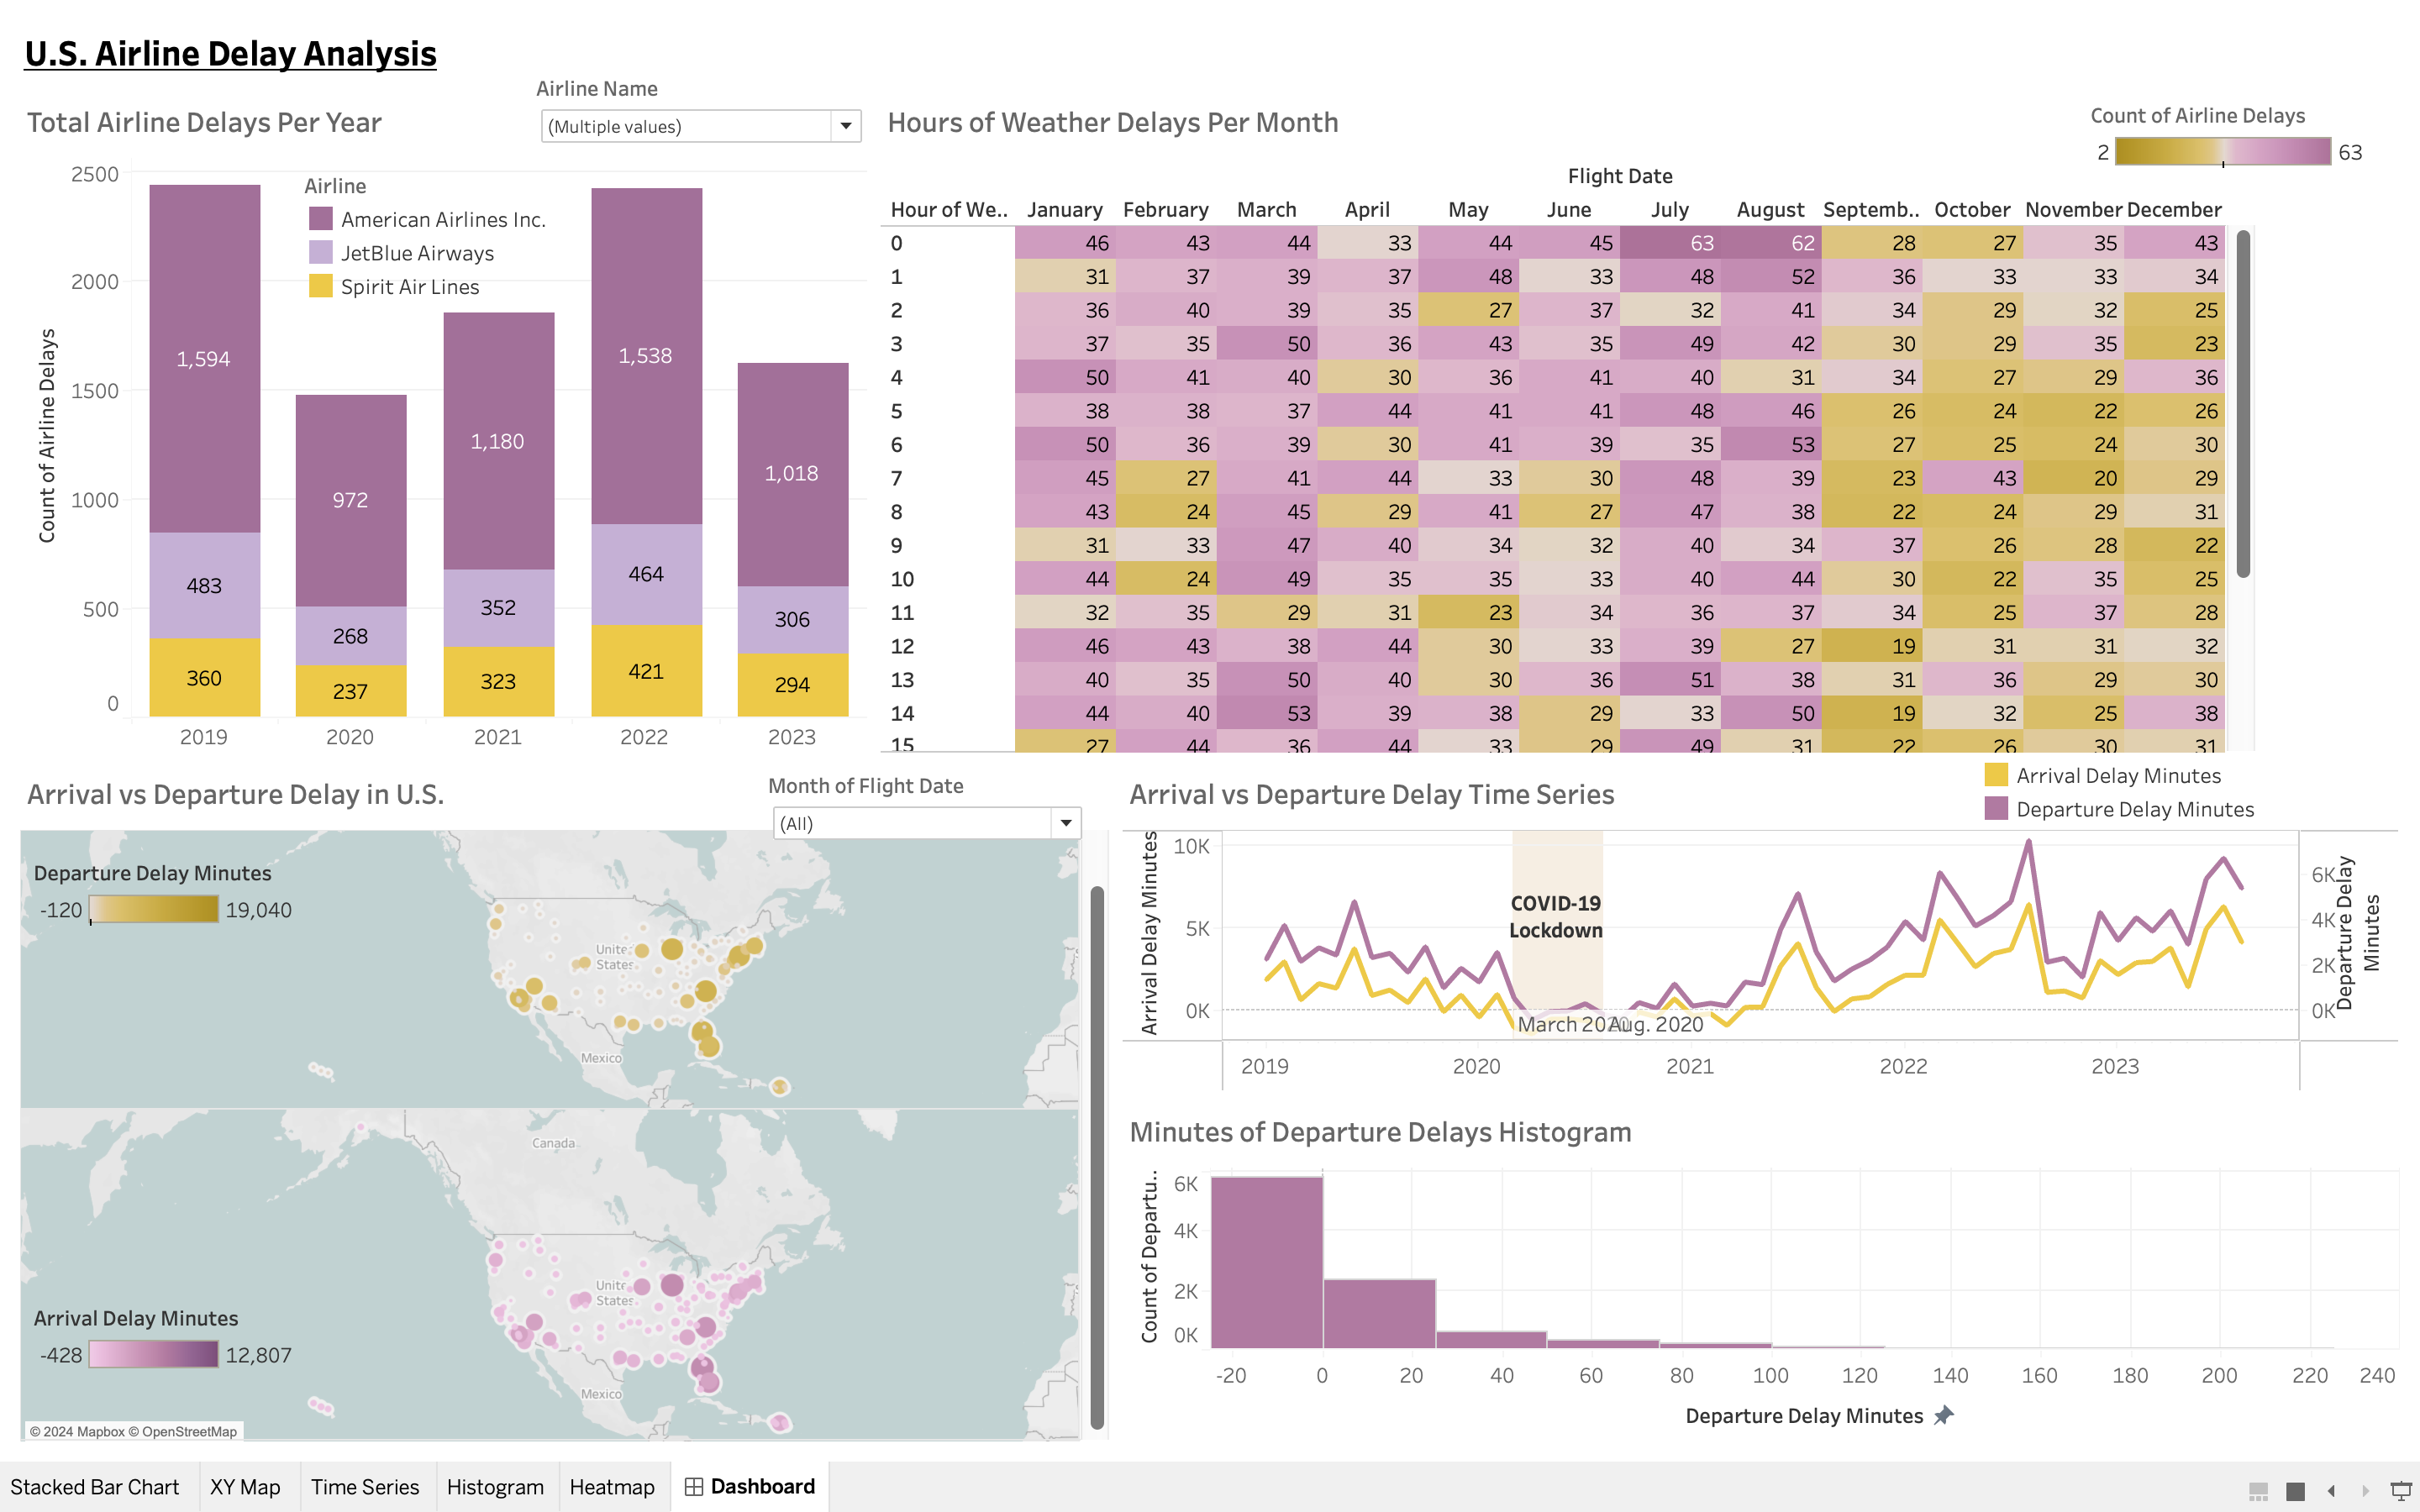

The page's visual inventory and layout, read from the dashboard file:
{"tool":"tableau","page":{"name":"Dashboard","canvas":[1000,1000],"units":"permille","ordinal":0},"visuals":[{"type":"text","box":[6.5,11.4,987.1,51.8]},{"type":"filter","title":"Stacked Bar Chart","param":"[federated.0xvhp291h96joa11bovfc1v546i7].[none:Airline_Name:nk]","box":[221.3,50.7,136.7,64.4]},{"type":"worksheet","title":"Stacked Bar Chart","mark":"Bar","rows":["Airline Delays.csv_3B6A3B30201E4E5BA97D2194F4AA757A"],"cols":["Flight_Date"],"box":[6.5,63.2,355.2,457]},{"type":"worksheet","title":"Heatmap","mark":"Automatic","rows":["Weather_Delay_HH_MM"],"cols":["Flight_Date"],"box":[361.7,63.2,631.9,457]},{"type":"legend","title":"Heatmap","param":"[federated.0xvhp291h96joa11bovfc1v546i7].[__tableau_internal_object_id__].[cnt:A","box":[864.1,69.3,115.8,68.1]},{"type":"legend","title":"Stacked Bar Chart","param":"[federated.0xvhp291h96joa11bovfc1v546i7].[none:Airline_Name:nk]","box":[118,95.3,142.4,97.8]},{"type":"legend","title":"Time Series","param":"[federated.0xvhp291h96joa11bovfc1v546i7].[:Measure Names]","box":[818.3,497.5,131.8,71.8]},{"type":"worksheet","title":"XY Map ","mark":"Automatic","box":[6.5,520.2,454.9,468.4]},{"type":"worksheet","title":"Time Series","mark":"Automatic","rows":["Arrival_Delay_Minutes","Departure_Delay_Minutes"],"cols":["Flight_Date"],"box":[461.4,520.2,532.2,230.5]},{"type":"filter","title":"XY Map ","param":"[federated.0xvhp291h96joa11bovfc1v546i7].[mn:Flight_Date:ok]","box":[317.5,527.2,131.8,64.4]},{"type":"legend","title":"XY Map ","param":"[federated.0xvhp291h96joa11bovfc1v546i7].[sum:Departure_Delay_Minutes:qk]","box":[14.2,587.9,110.3,94.1]},{"type":"worksheet","title":"Histogram","mark":"Automatic","rows":["Departure_Delay_Minutes"],"cols":["Departure Delay Minutes (bin)"],"box":[461.4,750.7,532.2,237.8]},{"type":"legend","title":"XY Map ","param":"[federated.0xvhp291h96joa11bovfc1v546i7].[sum:Arrival_Delay_Minutes:qk]","box":[14.2,892.3,110.3,94.1]}]}

Visuals, with their boxes on the dashboard's canvas, which has no fixed pixel size, in thousandths of its width and height (x1, y1, x2, y2). These are canvas units, not pixel positions in the 2420x1512 screenshot, which may show the page scaled, cropped or inside an application window:
text: x1=6 y1=11 x2=994 y2=63
"Stacked Bar Chart" filter: x1=221 y1=51 x2=358 y2=115
"Stacked Bar Chart" worksheet (Bar marks): x1=6 y1=63 x2=362 y2=520
"Heatmap" worksheet: x1=362 y1=63 x2=994 y2=520
"Heatmap" legend: x1=864 y1=69 x2=980 y2=137
"Stacked Bar Chart" legend: x1=118 y1=95 x2=260 y2=193
"Time Series" legend: x1=818 y1=498 x2=950 y2=569
"XY Map " worksheet: x1=6 y1=520 x2=461 y2=989
"Time Series" worksheet: x1=461 y1=520 x2=994 y2=751
"XY Map " filter: x1=318 y1=527 x2=449 y2=592
"XY Map " legend: x1=14 y1=588 x2=124 y2=682
"Histogram" worksheet: x1=461 y1=751 x2=994 y2=988
"XY Map " legend: x1=14 y1=892 x2=124 y2=986
